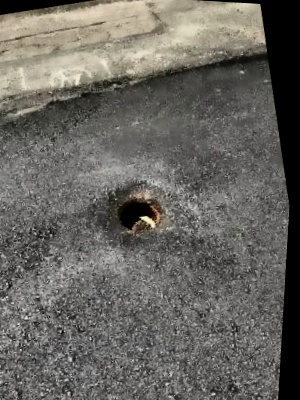pothole: (110, 190, 169, 241)
